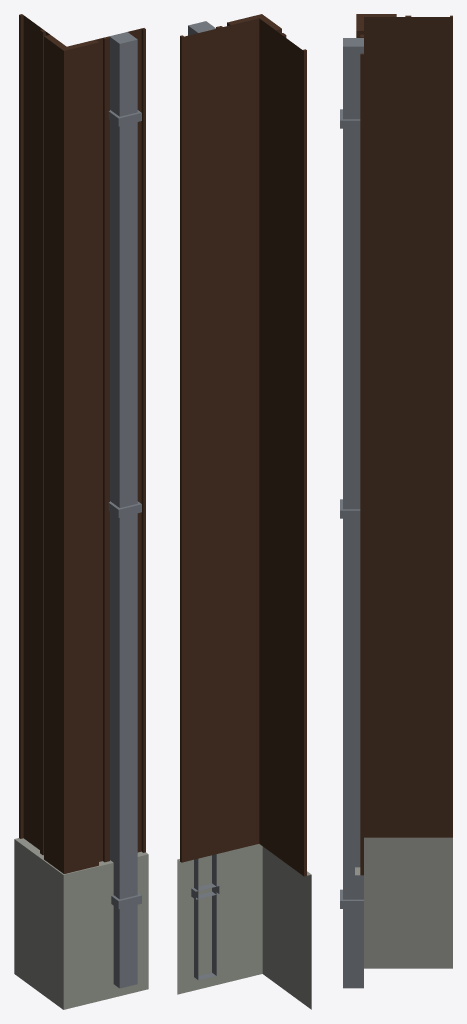
File: base-c1_close.fbx
3 renders of one model, left to right at view 1: azimuth 30°, elevation 25°; view 2: azimuth 210°, elevation 25°; view 3: azimuth 270°, elevation 25°, orthographic.
Parts seen in each view (by area): view 1: a2000/0/base-c1_close; view 2: a2000/0/base-c1_close; view 3: a2000/0/base-c1_close.
Part boxes in pixels (<box>): a2000/0/base-c1_close: <box>14,14,148,1009</box>; a2000/0/base-c1_close: <box>177,14,311,1009</box>; a2000/0/base-c1_close: <box>340,14,452,988</box>.
Size of the model in its own units: 0.33 by 3.55 by 0.38.
